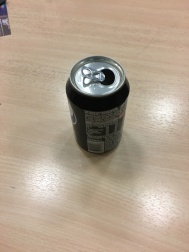can_black: (49, 48, 137, 166)
